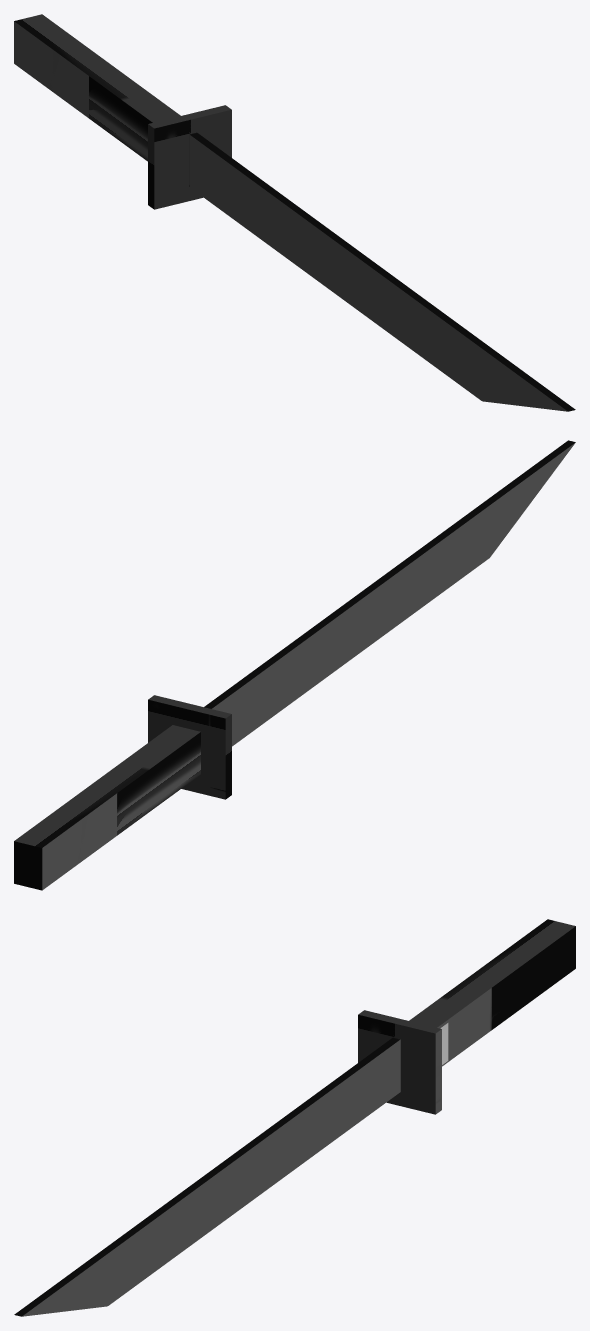
The model's file is samuraiGUN5separated.fbx.
3 renders of one model, top to bottom at view 1: azimuth 30°, elevation 25°; view 2: azimuth 150°, elevation 25°; view 3: azimuth 330°, elevation 25°, orthographic.
Parts seen in each view (by area): view 1: Cube; view 2: Cube; view 3: Cube.
Boxes of the visible parts, x1,y1,x2,y2 form: Cube: [14, 14, 575, 411]; Cube: [14, 440, 575, 890]; Cube: [14, 919, 575, 1316].
Bounding box in the file's own units: 2 × 2 × 24.31.
2 materials, 1 textured.
